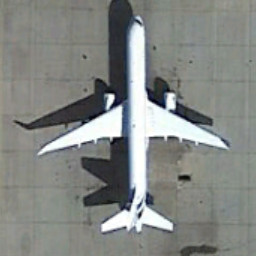Airplane: (23, 7, 239, 252)
